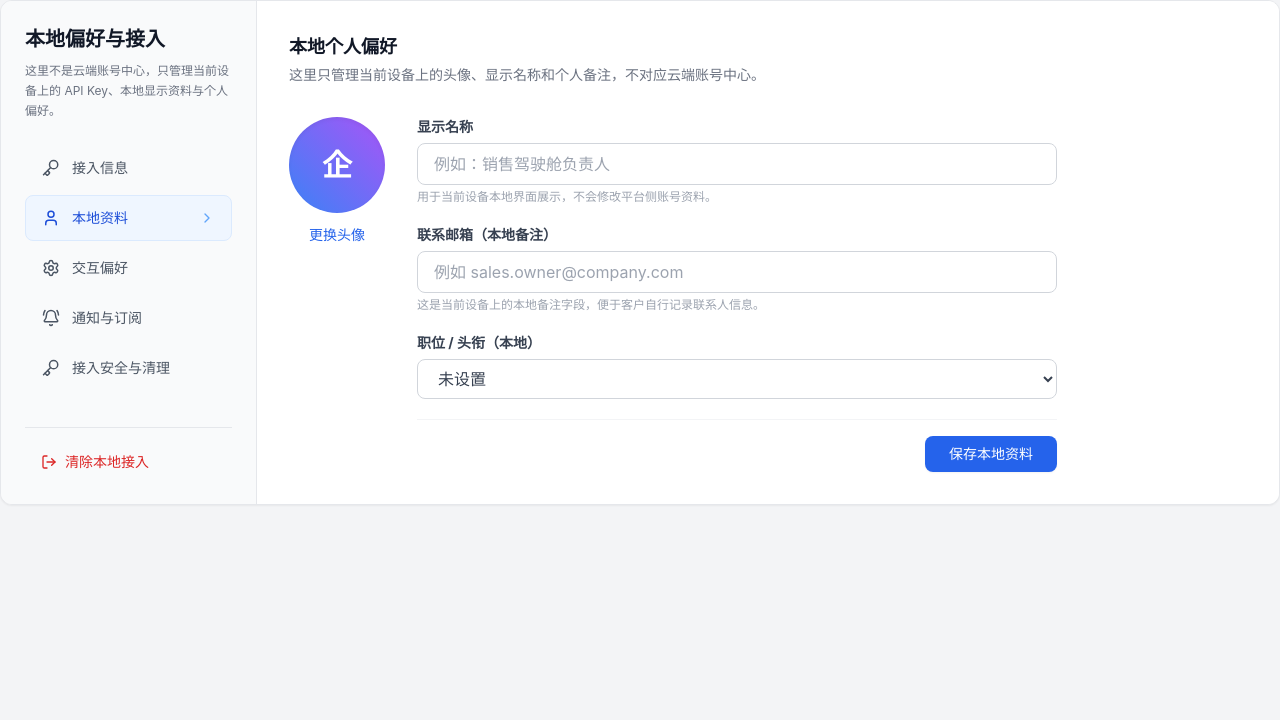
Test: switches system settings tabs when clicking sidebar buttons
Click the button "交互偏好" at [128, 268], box x1=25 y1=245 x2=232 y2=291
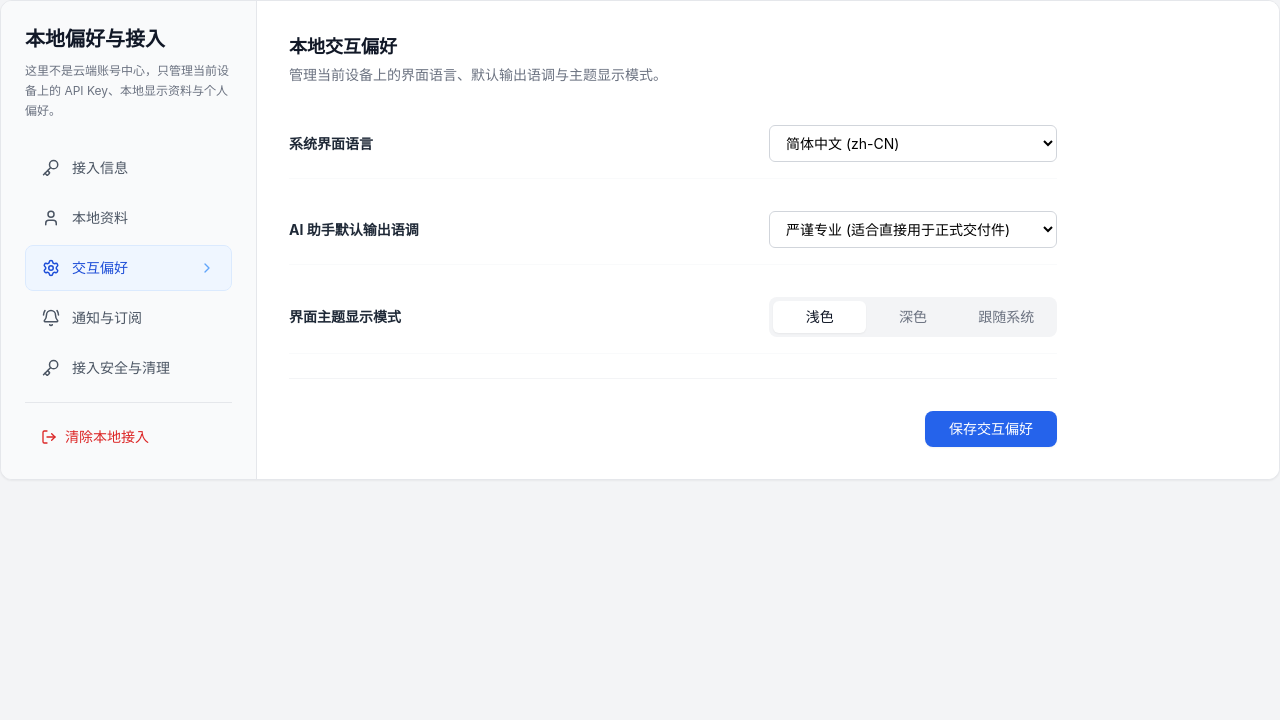
Result: the heading "本地交互偏好" is shown at x1=289 y1=36 x2=397 y2=57
Click the button "通知与订阅" at [128, 318], box x1=25 y1=295 x2=232 y2=341
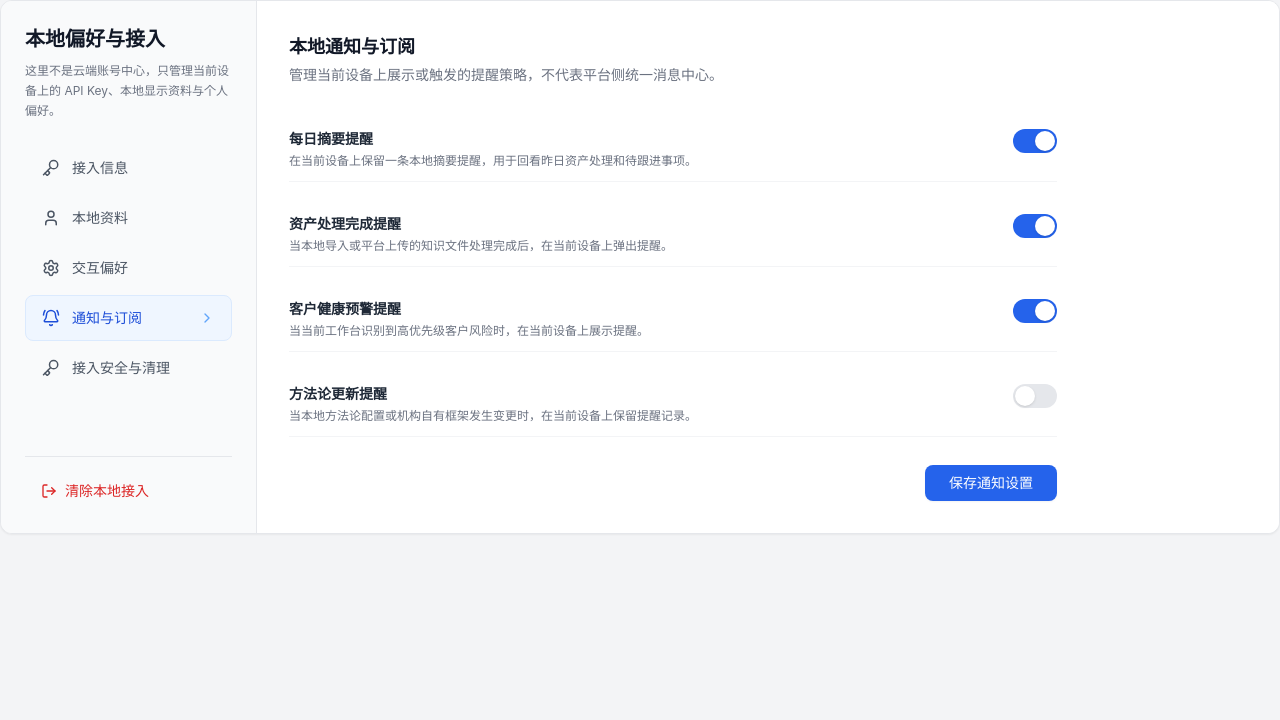
Result: the heading "本地通知与订阅" is shown at x1=289 y1=36 x2=415 y2=57
Click the button "接入安全与清理" at [128, 368], box x1=25 y1=345 x2=232 y2=391
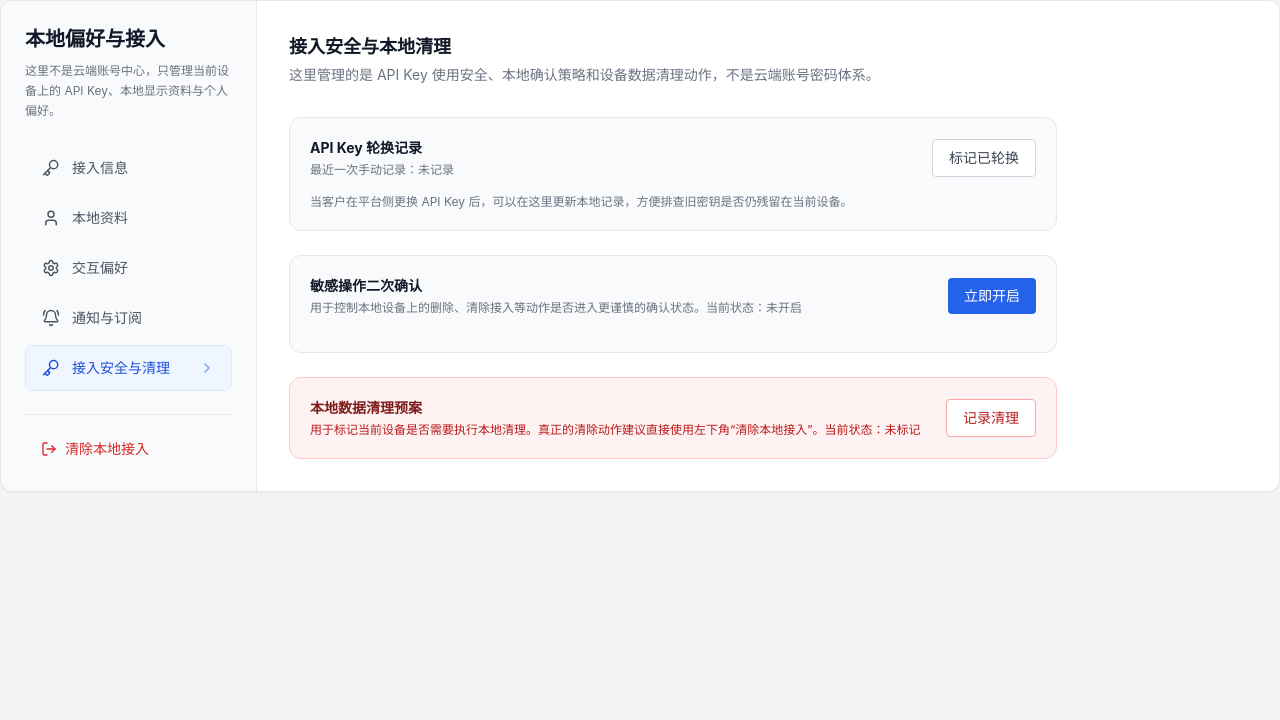
Result: the heading "接入安全与本地清理" is shown at x1=289 y1=36 x2=451 y2=57
